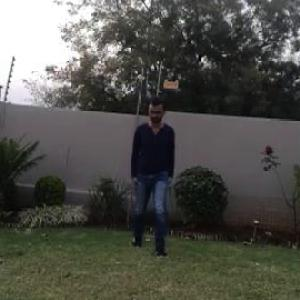follow: (131, 90, 187, 264)
